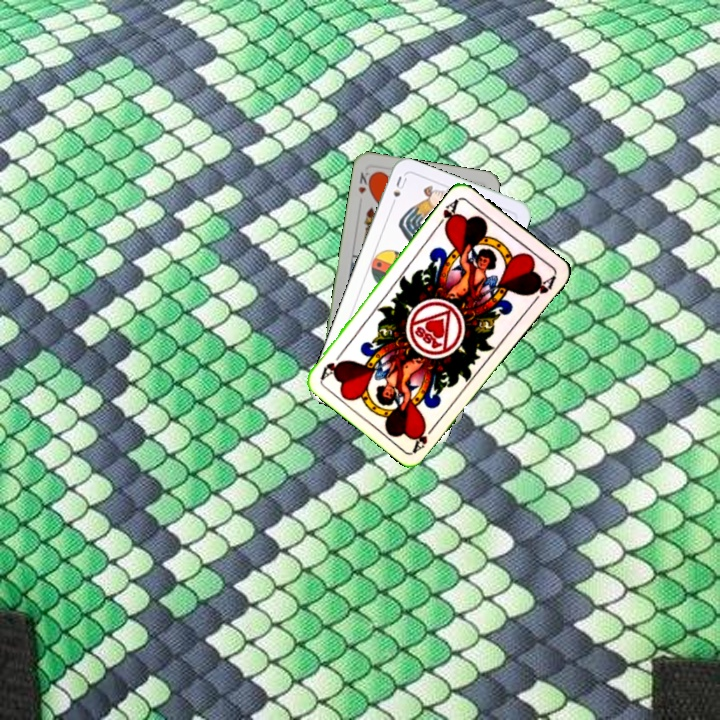HA: (432, 194, 461, 233), (409, 419, 439, 454)
HK: (354, 168, 375, 196)
SU: (387, 172, 409, 211)
